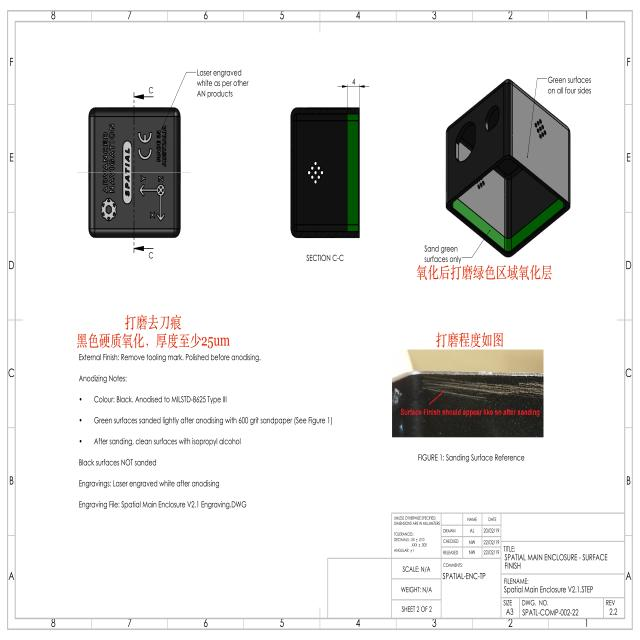dimension: (337, 77, 370, 107)
